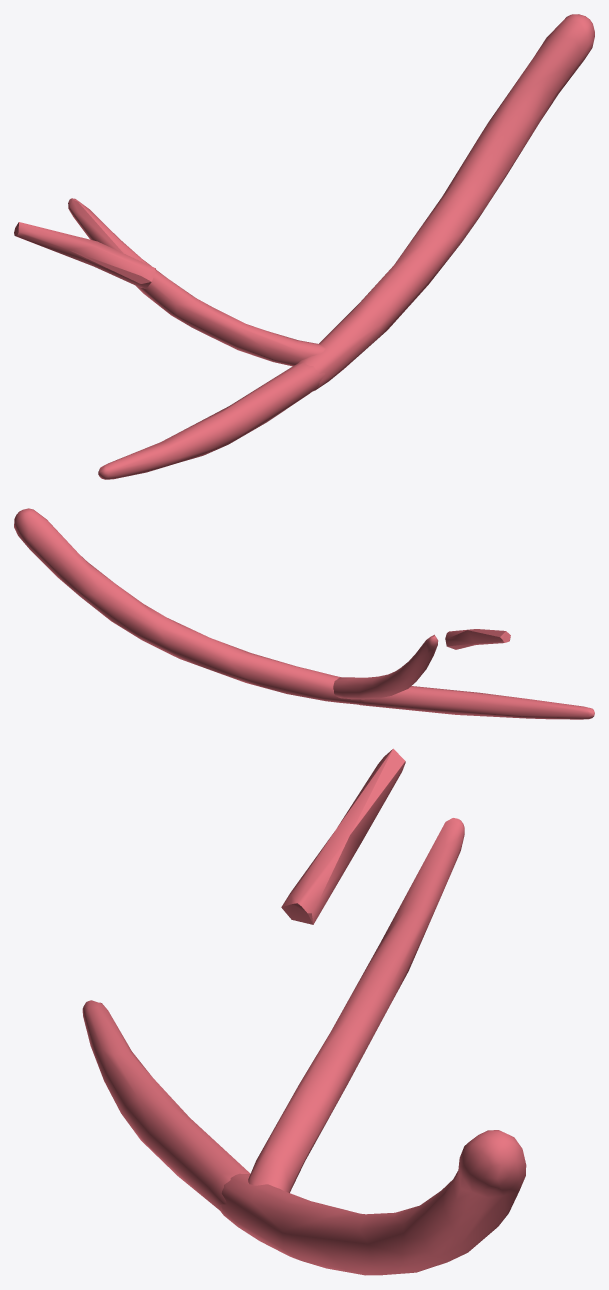
File: fma8664_cx275.glb
The picture shows the model from 3 angles, top to bottom: view 1: azimuth 30°, elevation 25°; view 2: azimuth 150°, elevation 25°; view 3: azimuth 270°, elevation 25°; orthographic projection. The views are drawn at different scales.
Parts seen in each view (by area): view 1: FMA8664_CX275; view 2: FMA8664_CX275; view 3: FMA8664_CX275.
Part boxes in pixels (box(x1,y1,x2,y2)): FMA8664_CX275: box(14, 14, 594, 479); FMA8664_CX275: box(14, 508, 594, 719); FMA8664_CX275: box(82, 748, 526, 1275).
Bounding box in the file's own units: 0.0885 × 0.0316 × 0.0355.
